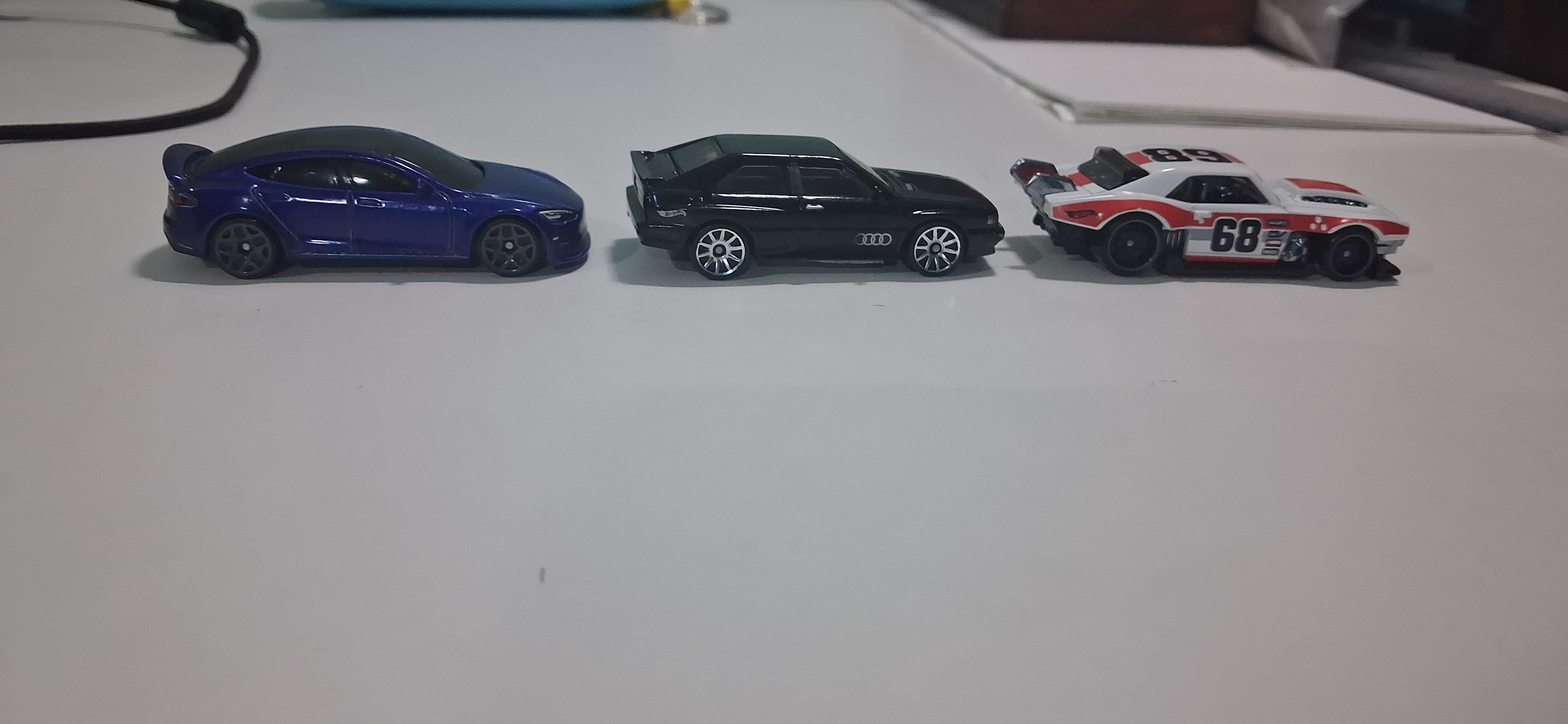Audi_Quattro: (607, 102, 1017, 332)
Camaro: (1008, 147, 1419, 294)
Tesla_Model_S_Plaid: (120, 110, 602, 299)
